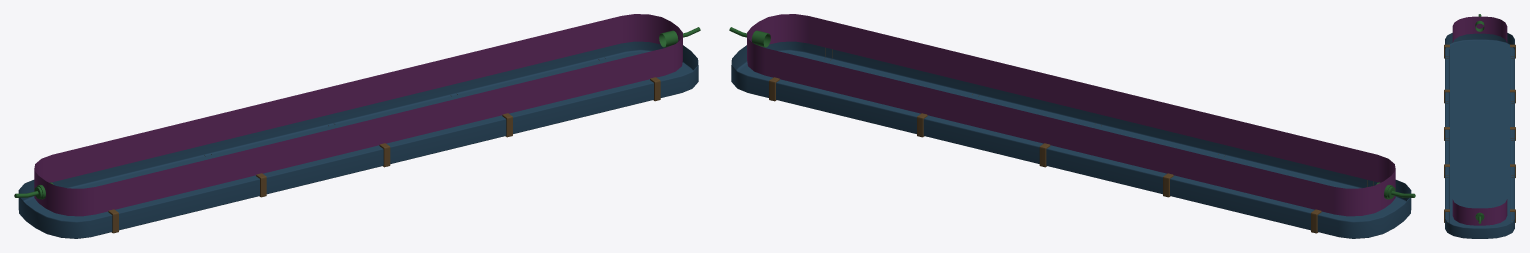
File: SM_CeilingLight.fbx
The picture shows the model from 3 angles, left to right: view 1: azimuth 30°, elevation 25°; view 2: azimuth 150°, elevation 25°; view 3: azimuth 270°, elevation 25°; orthographic projection. The views are drawn at different scales.
Parts seen in each view (by area): view 1: opti; view 2: opti; view 3: opti.
Boxes of the visible parts, bbox=[...] form: opti: bbox=[14, 14, 700, 238]; opti: bbox=[729, 14, 1415, 238]; opti: bbox=[1444, 14, 1515, 238].
Bounding box in the file's own units: 108 × 6.72 × 15.83.
